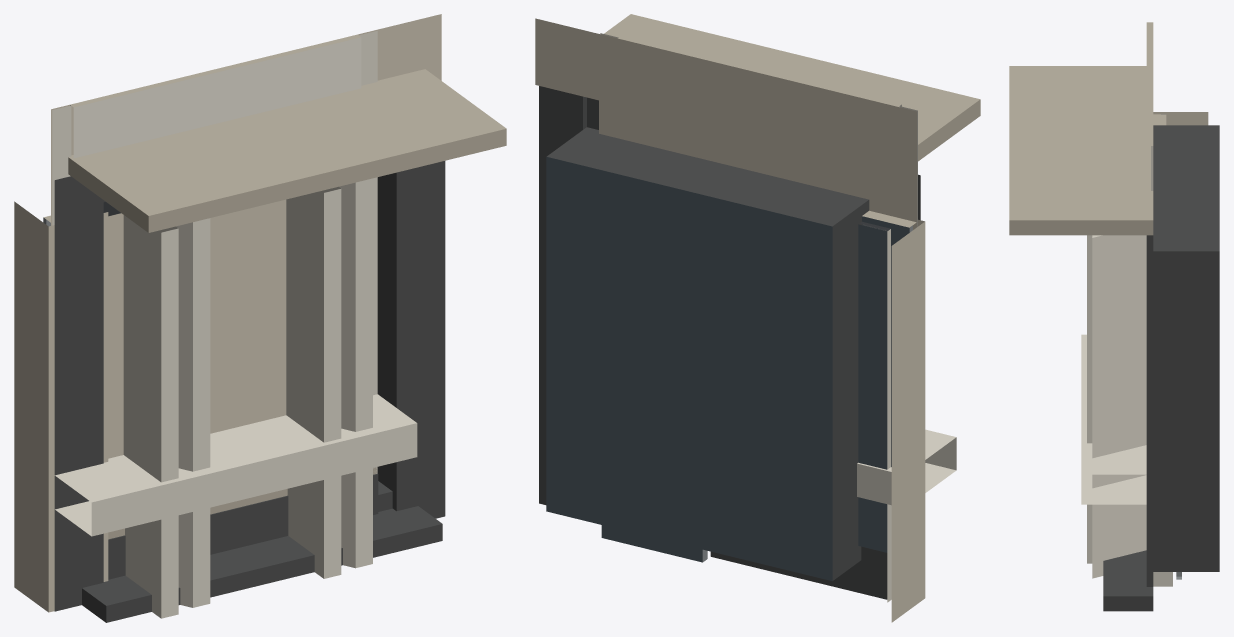
Rendered from fins.glb.
3 renders of one model, left to right at view 1: azimuth 30°, elevation 25°; view 2: azimuth 150°, elevation 25°; view 3: azimuth 270°, elevation 25°, orthographic. The views are drawn at different scales.
Visible parts, largest first — view 1: fins_entrance, fins_bay, fins_bay_angled, fins_cap, fins_blank, fins_shop, fins_corner, fins_ground_blank, fins_pier; view 2: fins_entrance, fins_ground_blank, fins_shop, fins_corner, fins_cap, fins_bay; view 3: fins_entrance, fins_bay_angled, fins_cap, fins_bay, fins_shop, fins_corner.
Boxes of the visible parts, x1=… form: fins_entrance: x1=51, y1=14, x2=506, y2=622; fins_bay: x1=43, y1=186, x2=377, y2=618; fins_bay_angled: x1=176, y1=178, x2=372, y2=607; fins_cap: x1=54, y1=394, x2=417, y2=617; fins_blank: x1=51, y1=199, x2=286, y2=458; fins_shop: x1=52, y1=31, x2=377, y2=473; fins_corner: x1=14, y1=201, x2=108, y2=612; fins_ground_blank: x1=51, y1=30, x2=378, y2=579; fins_pier: x1=51, y1=214, x2=115, y2=406; fins_entrance: x1=535, y1=14, x2=980, y2=581; fins_ground_blank: x1=599, y1=36, x2=916, y2=227; fins_shop: x1=600, y1=33, x2=917, y2=602; fins_corner: x1=891, y1=219, x2=925, y2=622; fins_cap: x1=857, y1=429, x2=956, y2=505; fins_bay: x1=862, y1=210, x2=916, y2=466; fins_entrance: x1=1009, y1=66, x2=1219, y2=611; fins_bay_angled: x1=1092, y1=235, x2=1146, y2=578; fins_cap: x1=1081, y1=334, x2=1146, y2=561; fins_bay: x1=1087, y1=114, x2=1166, y2=563; fins_shop: x1=1146, y1=22, x2=1181, y2=586; fins_corner: x1=1153, y1=112, x2=1208, y2=125.
Size of what is drawn, in the model's own units: 3.65 by 4.4 by 1.9.
